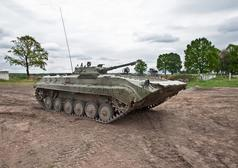bmp: (35, 63, 190, 123)
